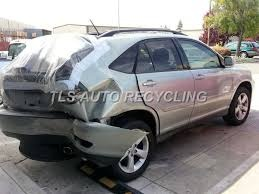Dent: (29, 80, 123, 144)
